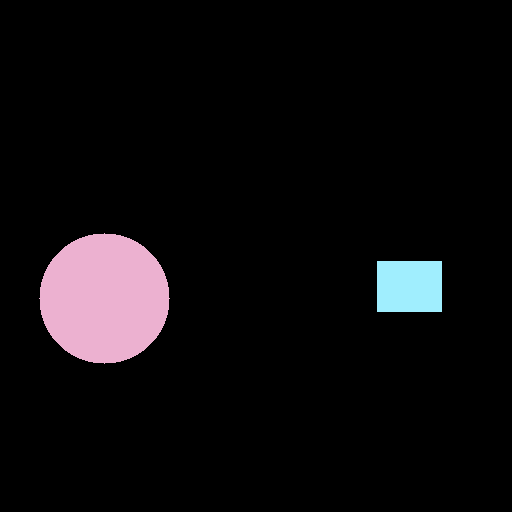circle: (39, 233, 169, 363)
rectangle: (377, 261, 441, 311)
